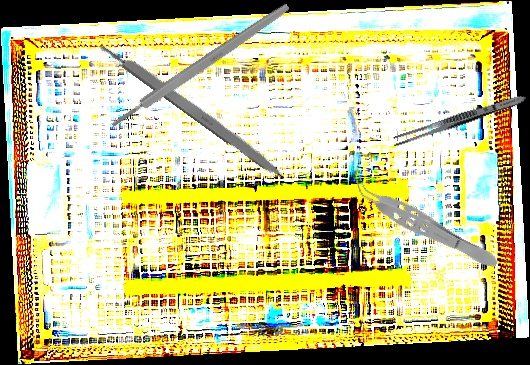Dressing Forceps: (391, 91, 528, 149)
Scalpel Handle: (96, 36, 290, 183), (108, 0, 292, 131)
Tissue Forceps: (344, 171, 504, 276)
